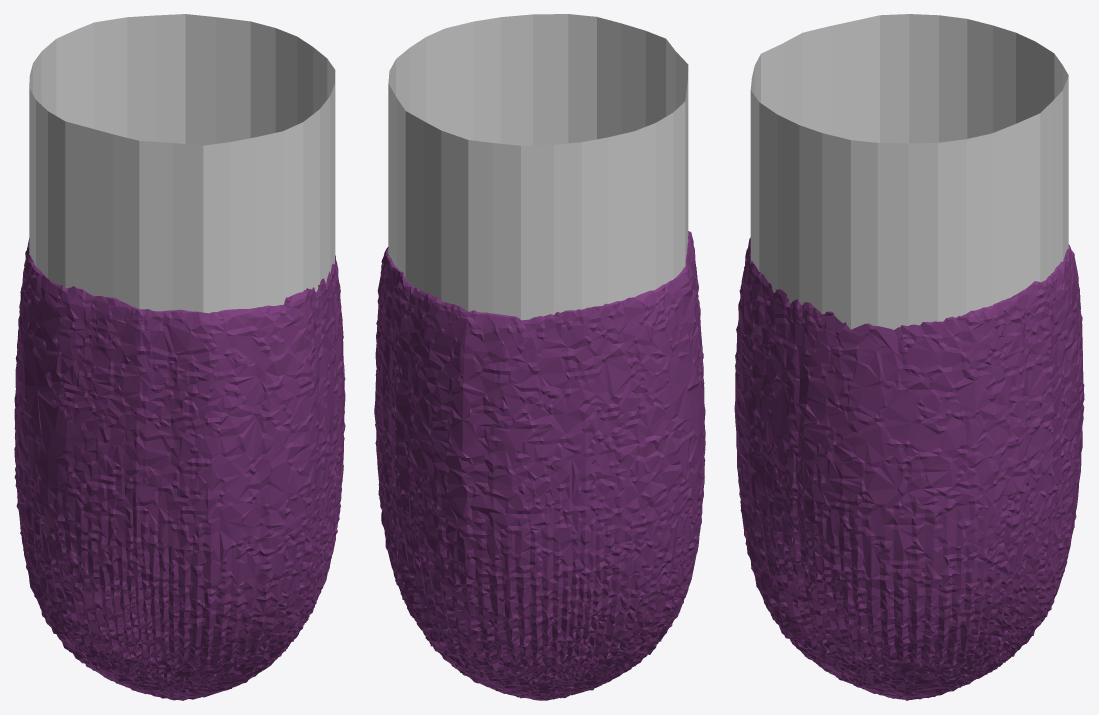
The model's file is ReaperArenaV3.fbx.
3 views of the same model, side by side, from view 1: azimuth 30°, elevation 25°; view 2: azimuth 150°, elevation 25°; view 3: azimuth 270°, elevation 25° (orthographic).
Parts seen in each view (by area): view 1: Plane, Cylinder; view 2: Plane, Cylinder; view 3: Plane, Cylinder.
Boxes of the visible parts, x1,y1,x2,y2 form: Plane: (14,238,345,700); Cylinder: (29,14,335,313); Plane: (374,231,705,700); Cylinder: (388,14,688,320); Plane: (734,237,1084,700); Cylinder: (750,14,1068,329).
Bounding box in the file's own units: 6304 × 12838 × 6550.
